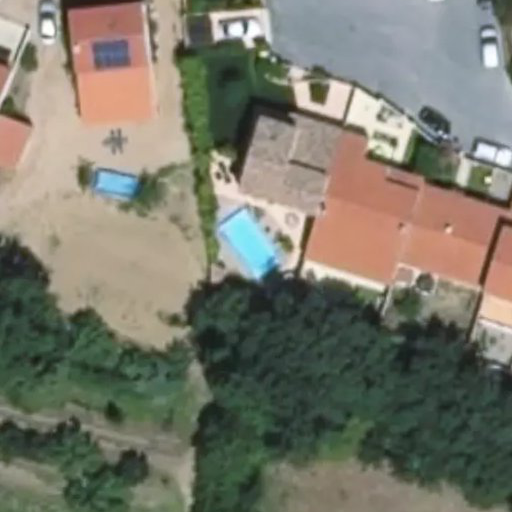pool: (225, 225, 286, 258)
